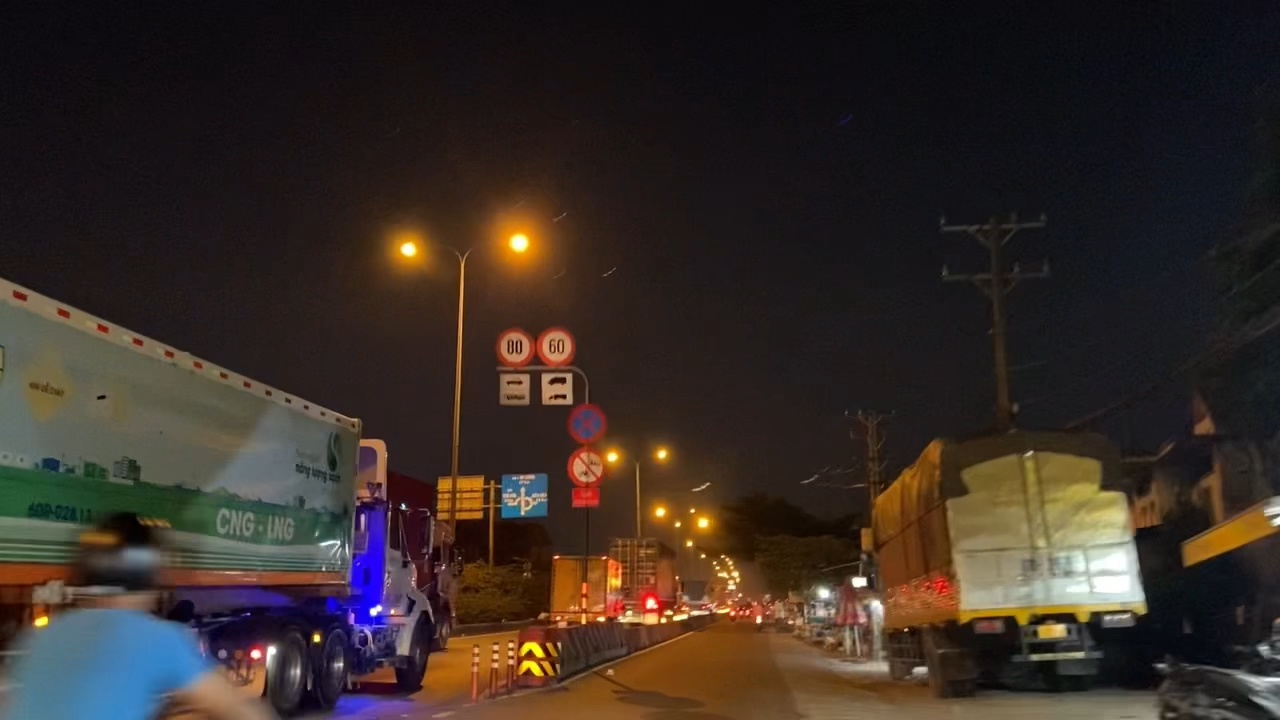gioi_han_60km: (536, 326, 576, 368)
gioi_han_80km: (497, 328, 536, 368)
